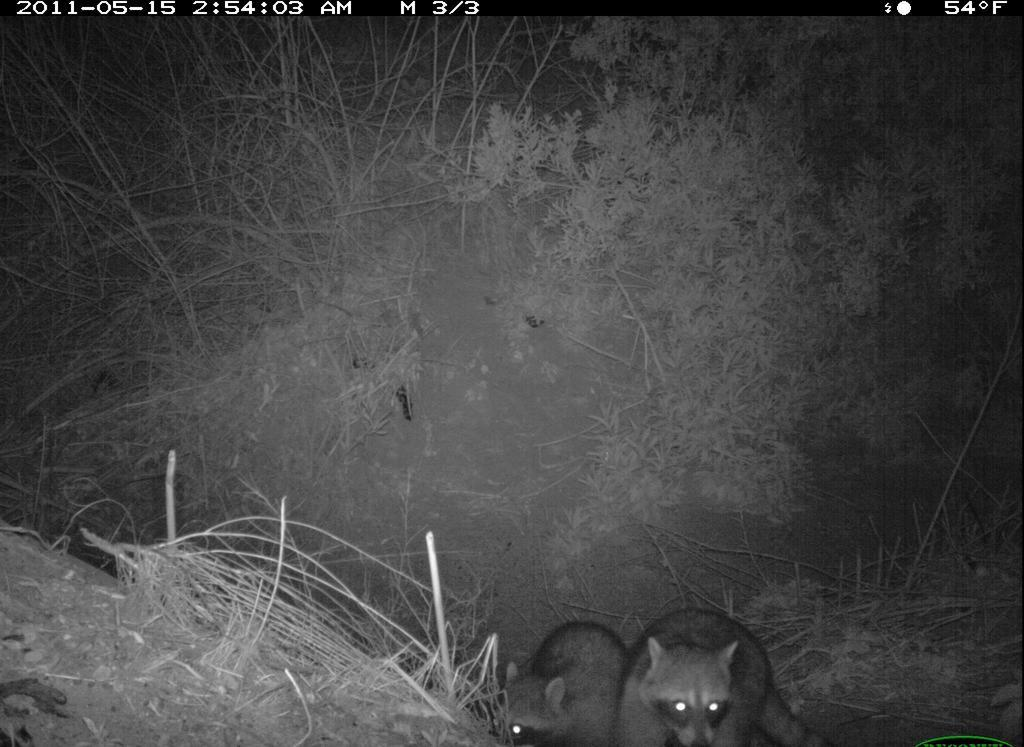raccoon: (626, 596, 839, 747), (492, 612, 621, 747)
